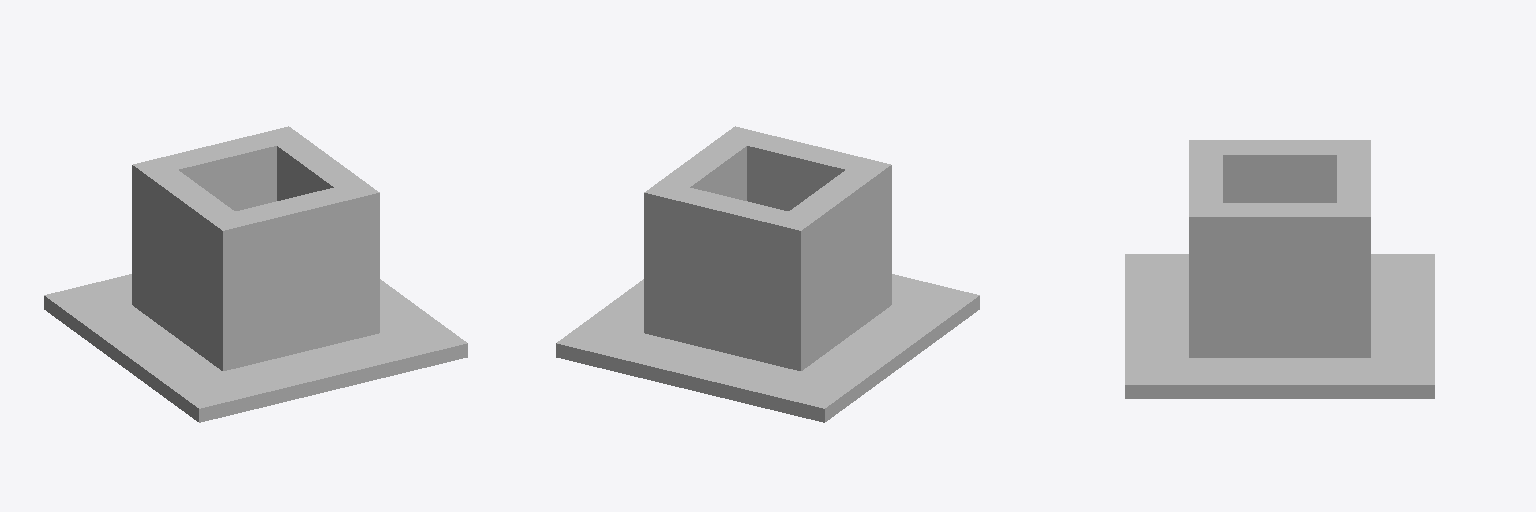
File: spikemorph2.obj
3 views of the same model, side by side, from view 1: azimuth 30°, elevation 25°; view 2: azimuth 150°, elevation 25°; view 3: azimuth 270°, elevation 25° (orthographic).
Parts seen in each view (by area): view 1: Cube1; view 2: Cube1; view 3: Cube1.
Part boxes in pixels (x1,y1,x2,y2): Cube1: (44, 126, 467, 422); Cube1: (556, 126, 979, 422); Cube1: (1125, 140, 1434, 398).
Size of the model in its own units: 2 by 1.1 by 2.